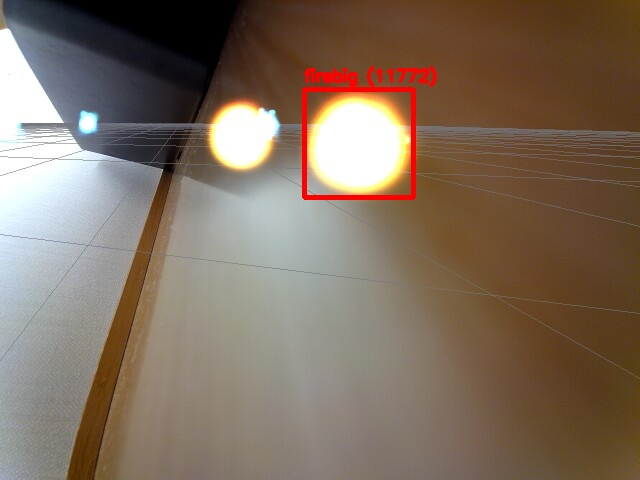firebig: (304, 89, 413, 197)
